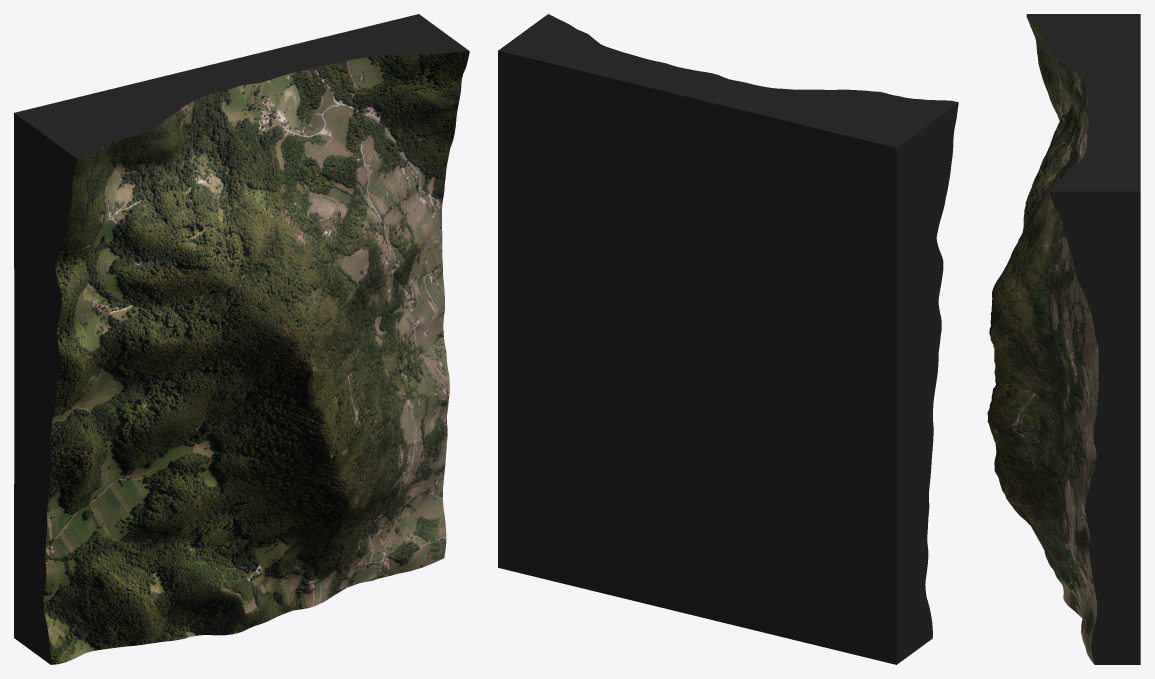
Rendered from small_mountain_visual.dae.
3 views of the same model, side by side, from view 1: azimuth 30°, elevation 25°; view 2: azimuth 150°, elevation 25°; view 3: azimuth 270°, elevation 25° (orthographic). The views are drawn at different scales.
Parts seen in each view (by area): view 1: Terrain (×2); view 2: Terrain; view 3: Terrain (×2).
Part boxes in pixels (bbox=[...]): Terrain (×2): bbox=[14, 14, 469, 664]; Terrain: bbox=[498, 14, 958, 664]; Terrain (×2): bbox=[987, 14, 1140, 664].
Size of the model in its own units: 194821 by 241605 by 70810.
2 materials, 1 textured.
